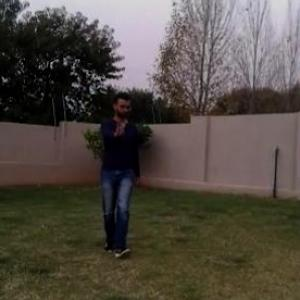takeoff-hand: (104, 116, 126, 142)
